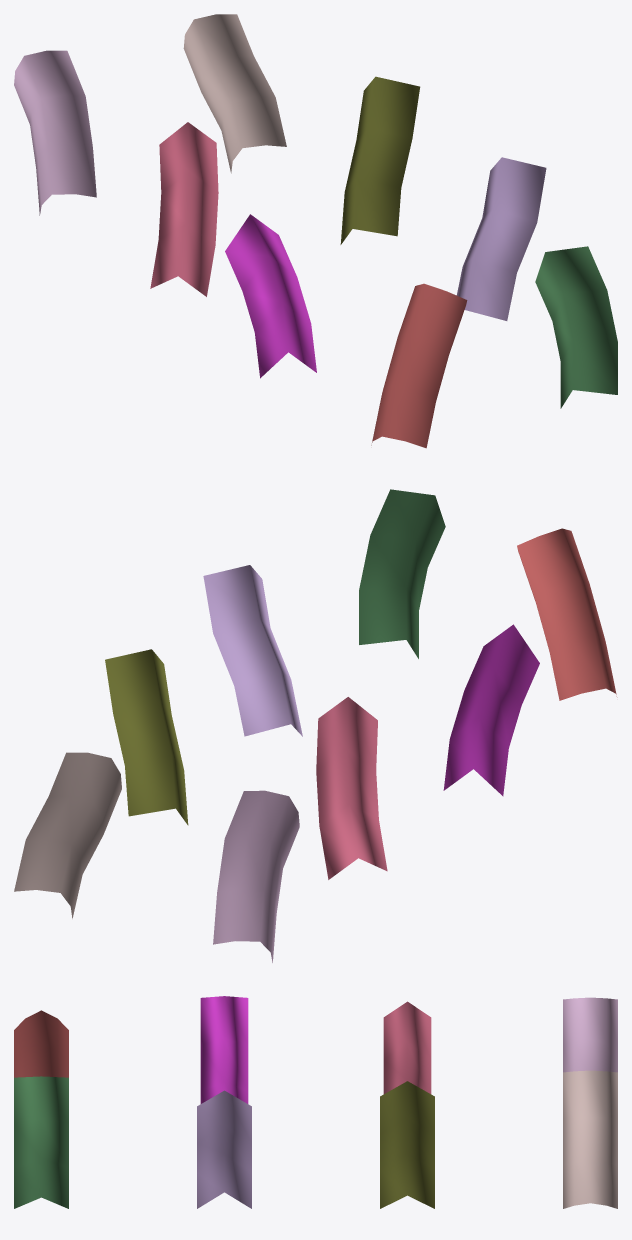
The model's file is lambert_mats_2_PolyLineTest_2023-06-04-21-23-00.gltf.
The picture shows the model from 3 angles, top to bottom: view 1: azimuth 30°, elevation 25°; view 2: azimuth 150°, elevation 25°; view 3: azimuth 270°, elevation 25°; orthographic projection. The views are drawn at different scales.
Bounding box in the file's own units: 337 × 163 × 660.
